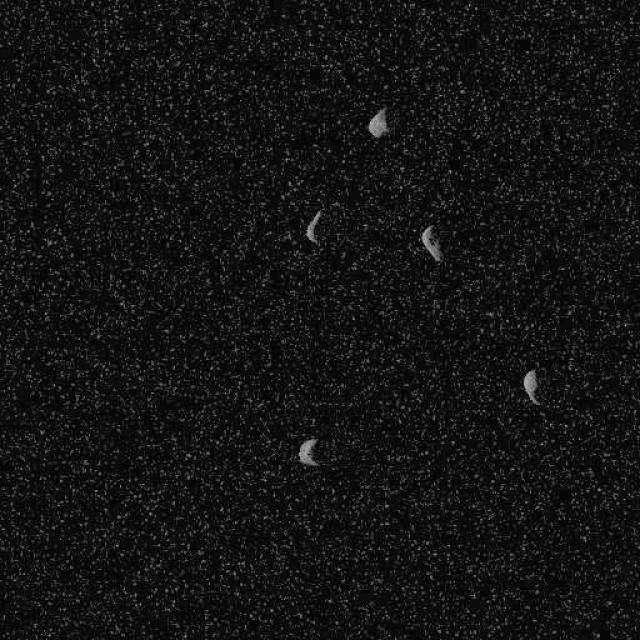D2: (420, 224, 444, 262), (366, 106, 389, 138), (521, 367, 540, 405), (304, 207, 322, 245), (298, 437, 318, 468)
